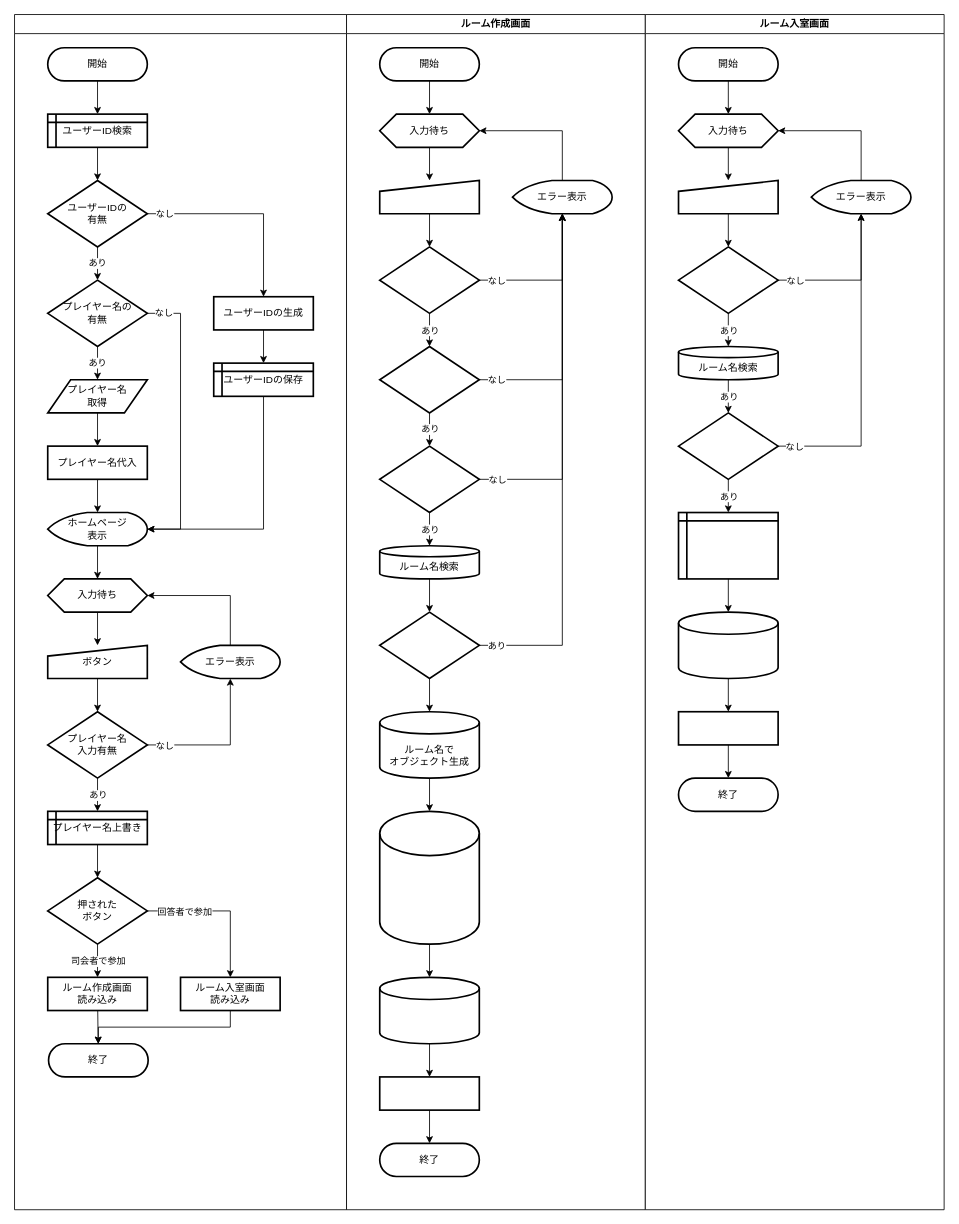
The diagram is 959 pixels wide and 1224 high, and some of its shapes have lost their labels. Here are the shapes that lost their labels. From the top down, the centre of each, then its label:
At pixel 429 196: "作成ボタン".
At pixel 728 196: "入室ボタン".
At pixel 429 280: "人数入力有無".
At pixel 728 280: "ルーム名 入力有無".
At pixel 429 379: "シンキングタイム 入力有無".
At pixel 728 446: "該当ルーム名 有無".
At pixel 429 479: "ルーム名入力有無".
At pixel 728 545: "ユーザーIDの取得 プレイヤー名の 取得".
At pixel 180 612: "ホーム画面".
At pixel 429 645: "既出の有無".
At pixel 728 645: "プレイヤー情報へ ユーザーIDの保存 プレイヤー名の保存".
At pixel 728 727: "ゲーム画面(回答者)の 読み込み".
At pixel 429 877: "・シンキングタイム の保存 ・人数の保存 ・司会者情報保存 ・プレイヤー情報の オブジェクト生成".
At pixel 429 1010: "プレイヤー情報へ ユーザーを追加".
At pixel 429 1093: "ゲーム画面(司会者) の読み込み".
